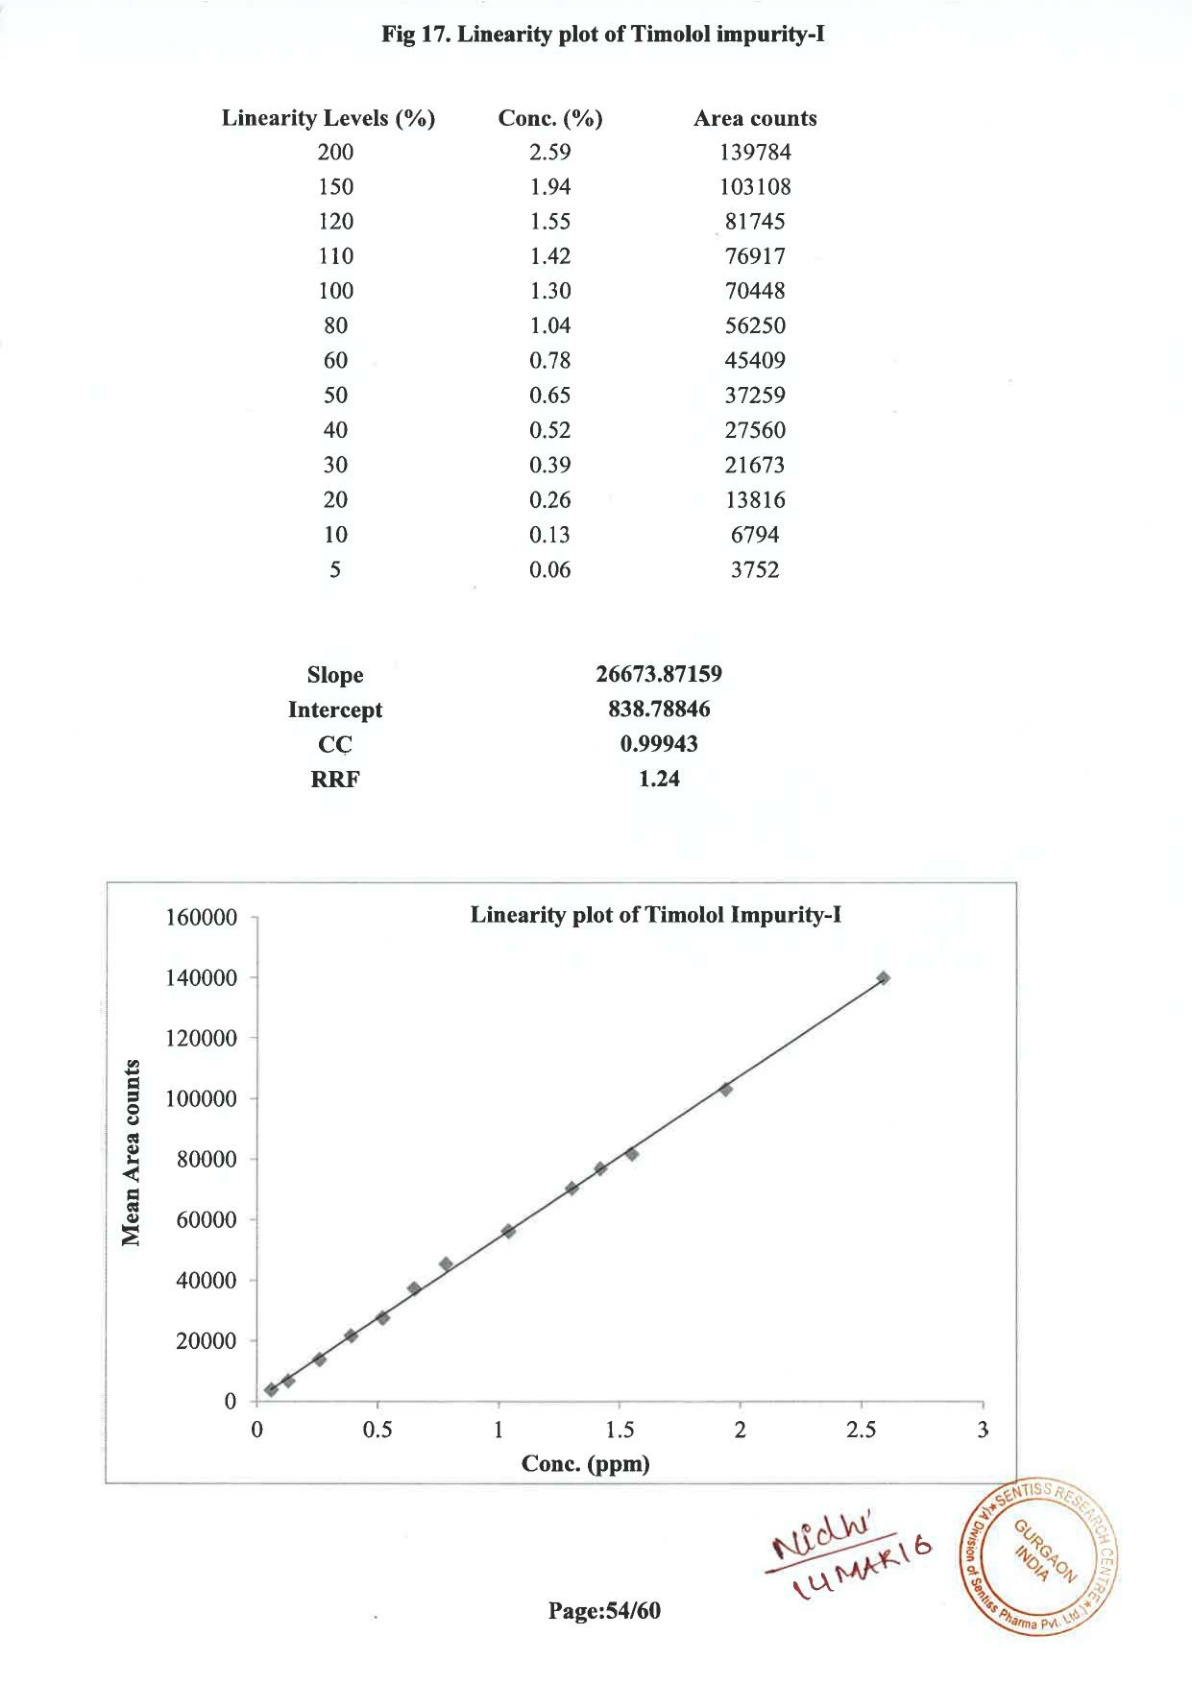nolines: (217, 104, 820, 588), (292, 664, 722, 790)
